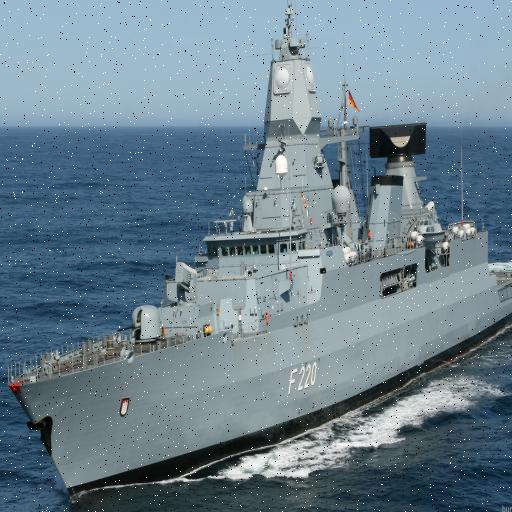Fragata: (7, 1, 512, 512)
